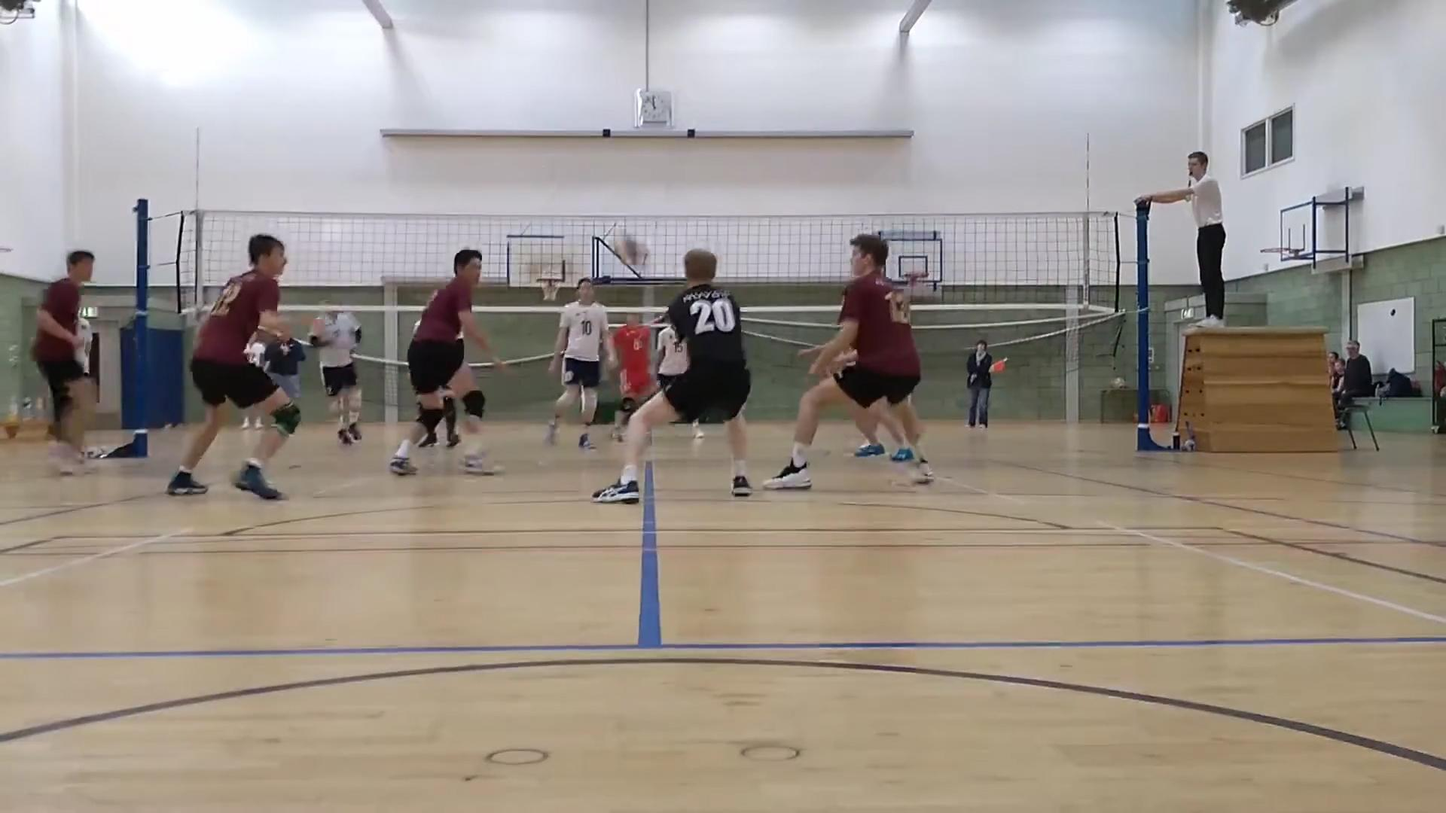Player: (764, 234, 932, 489), (167, 234, 300, 499), (389, 249, 496, 475), (547, 279, 613, 449), (309, 311, 362, 444), (612, 313, 657, 440), (848, 400, 911, 462), (657, 324, 688, 387), (440, 387, 459, 448), (441, 388, 460, 447), (245, 333, 265, 370)
Receive: (595, 244, 755, 505)
